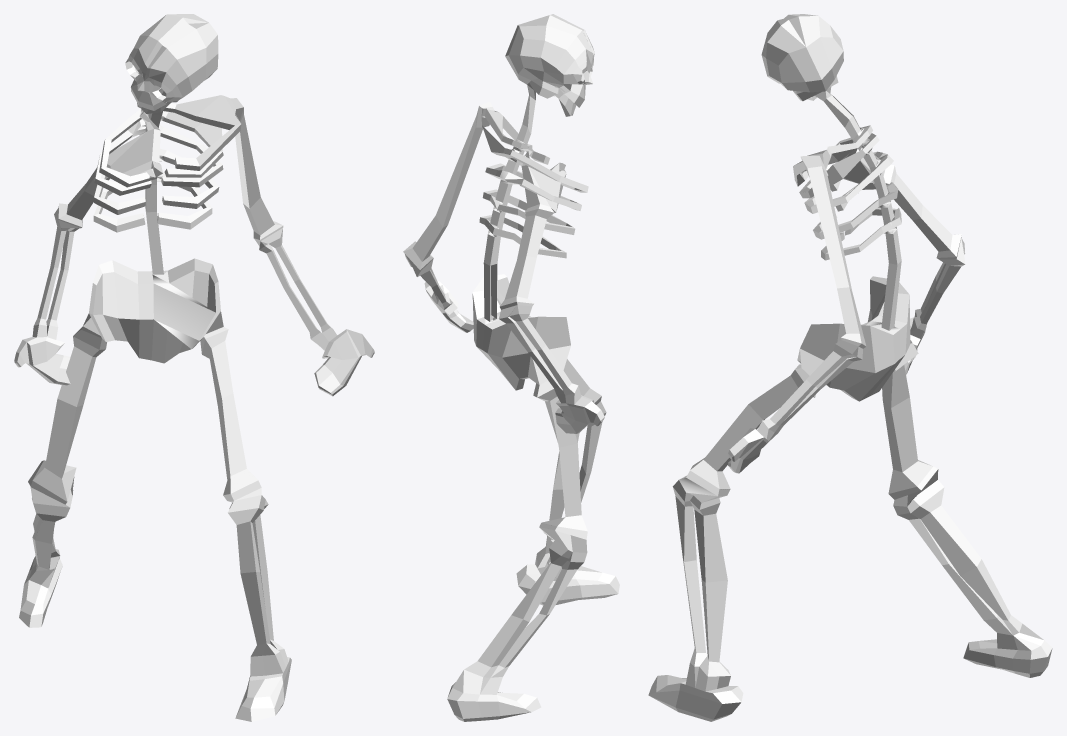
File: SkeletonIdle(55).obj
3 renders of one model, left to right at view 1: azimuth 30°, elevation 25°; view 2: azimuth 150°, elevation 25°; view 3: azimuth 270°, elevation 25°, orthographic. The views are drawn at different scales.
Parts seen in each view (by area): view 1: Object002; view 2: Object002; view 3: Object002.
Part boxes in pixels (x1,y1,x2,y2): Object002: [14, 14, 374, 721]; Object002: [403, 14, 619, 721]; Object002: [648, 14, 1052, 721].
Size of the model in its own units: 485 by 1120 by 607.
